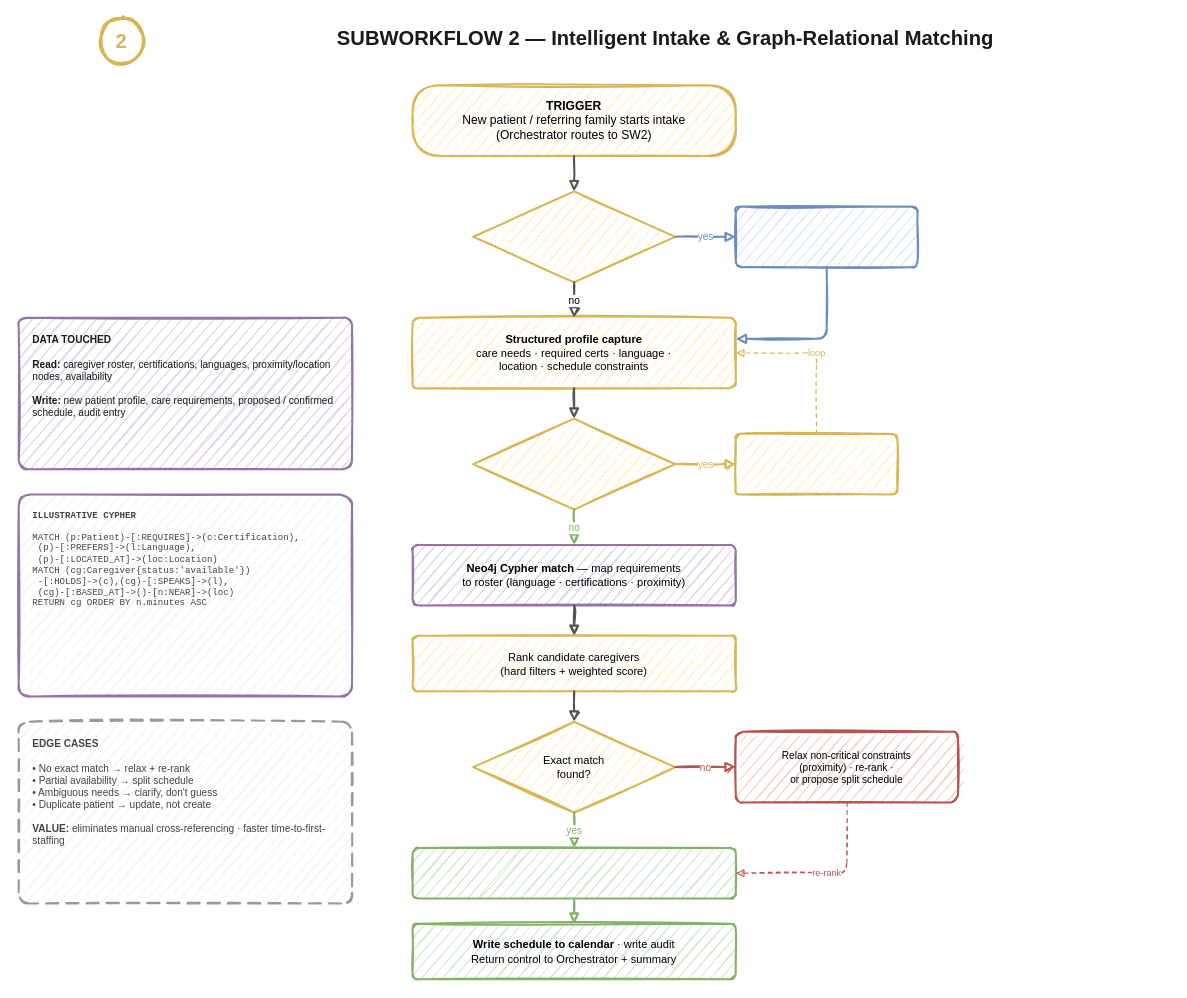
The diagram is 1187 pixels wide and 998 high, and some of its shapes have lost their labels. The shapes that lost their labels are listed below. From the top down, each one's box as (x1, y1, x2, y2) in pixels, then its label:
(472, 190, 676, 283): Existing profile (caller-ID match)?
(734, 205, 918, 268): Update existing profile (don't duplicate)
(472, 417, 676, 510): Care needs ambiguous?
(734, 432, 898, 495): Ask clarifying questions
(411, 846, 736, 899): Propose optimal schedule → caller confirms inline
